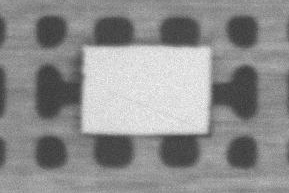DIE_CRACK: (163, 61, 289, 86)
